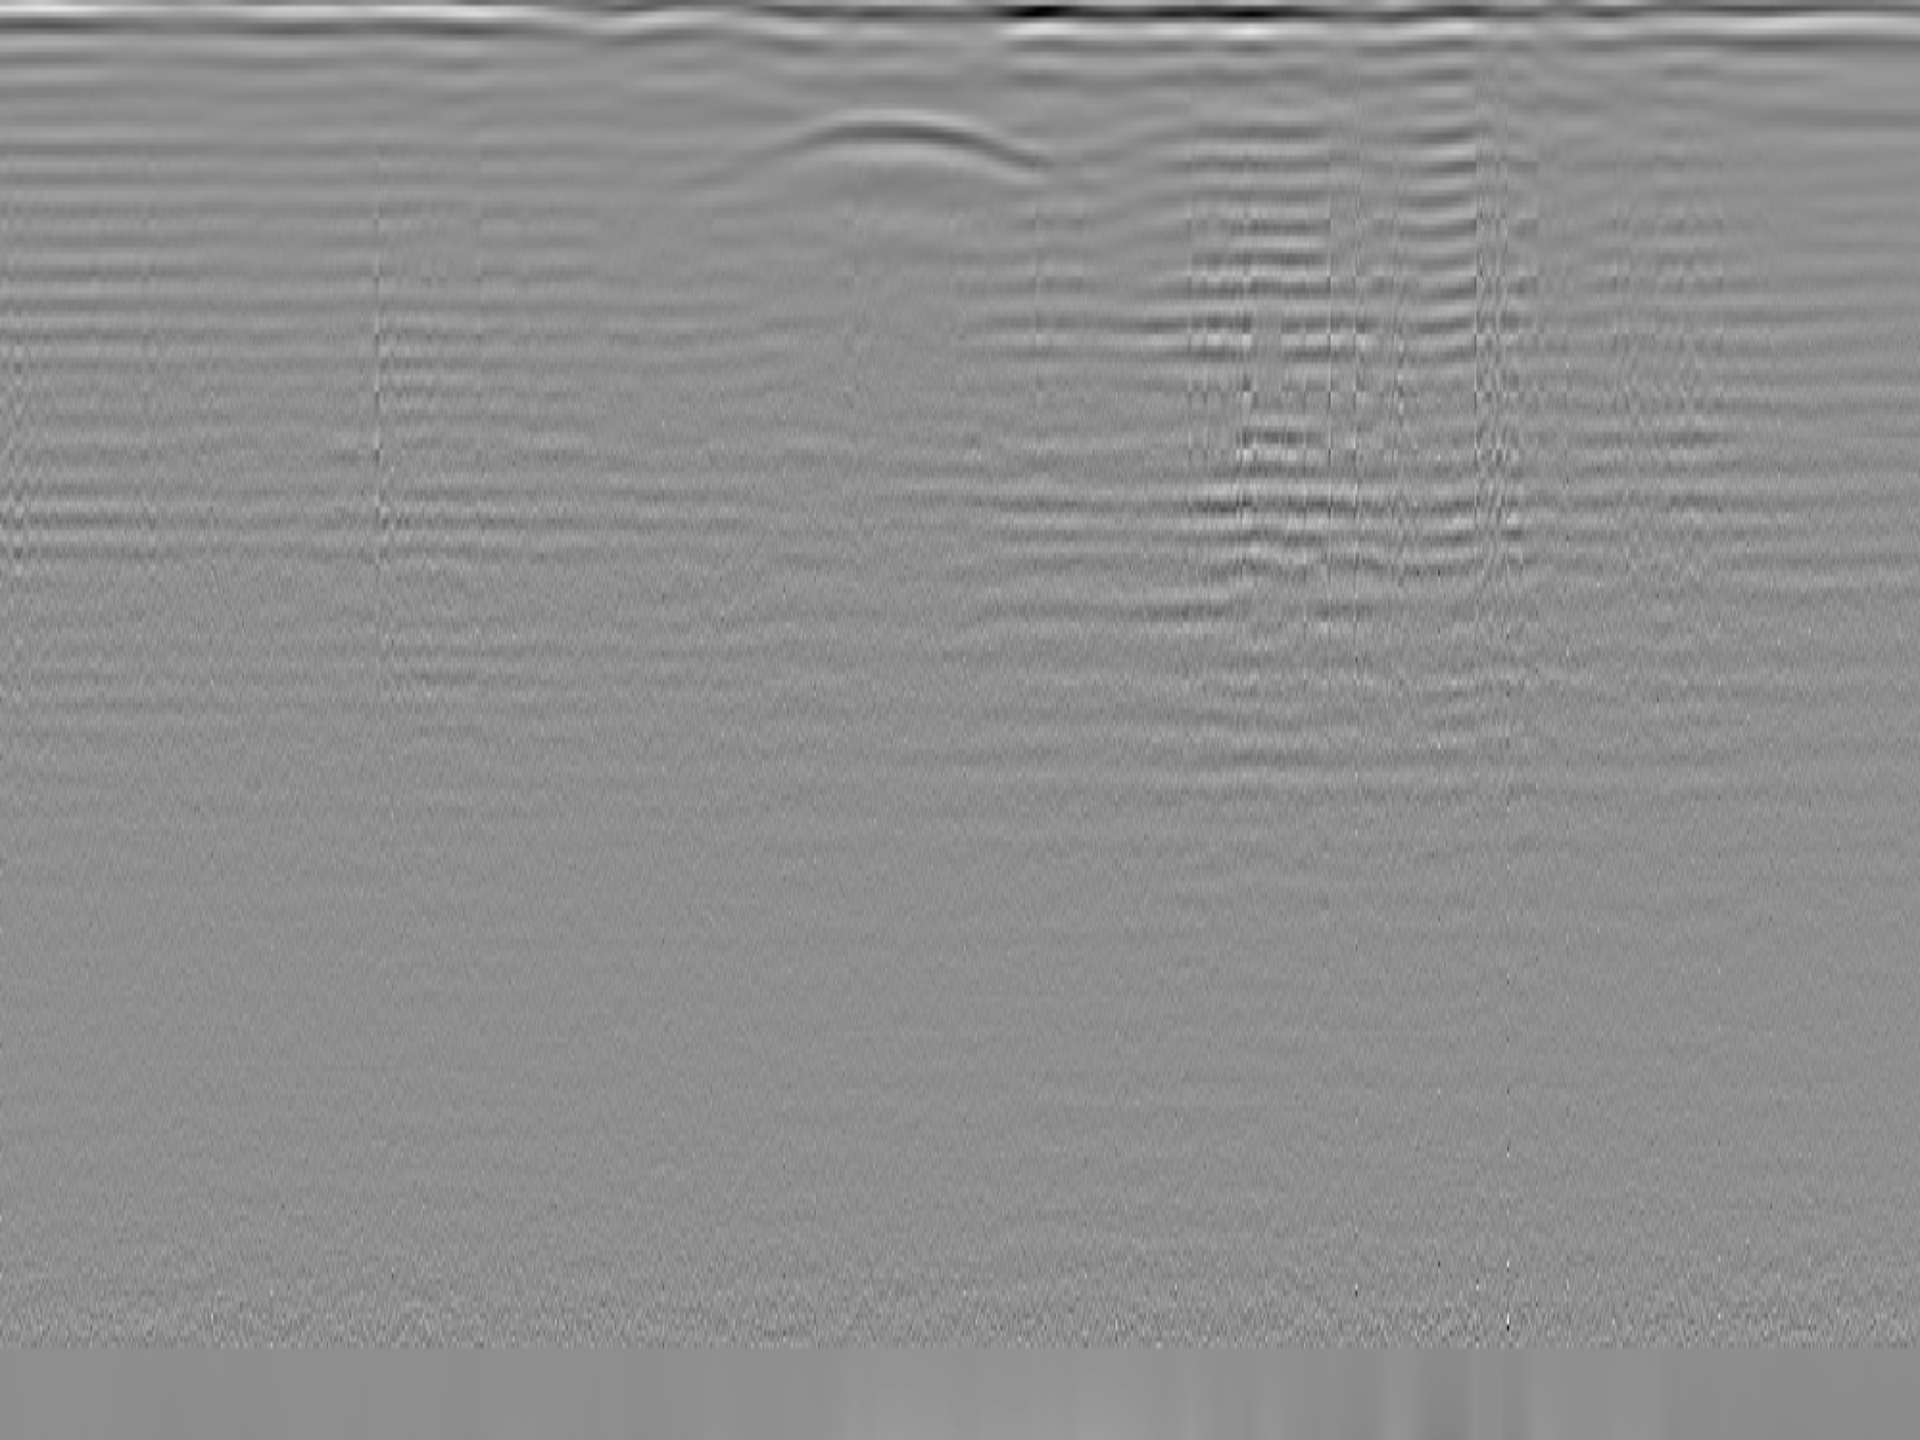Tunnel: (679, 106, 1079, 194)
